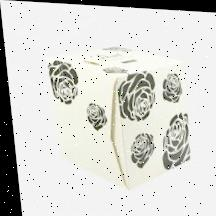cube: (42, 41, 194, 191)
